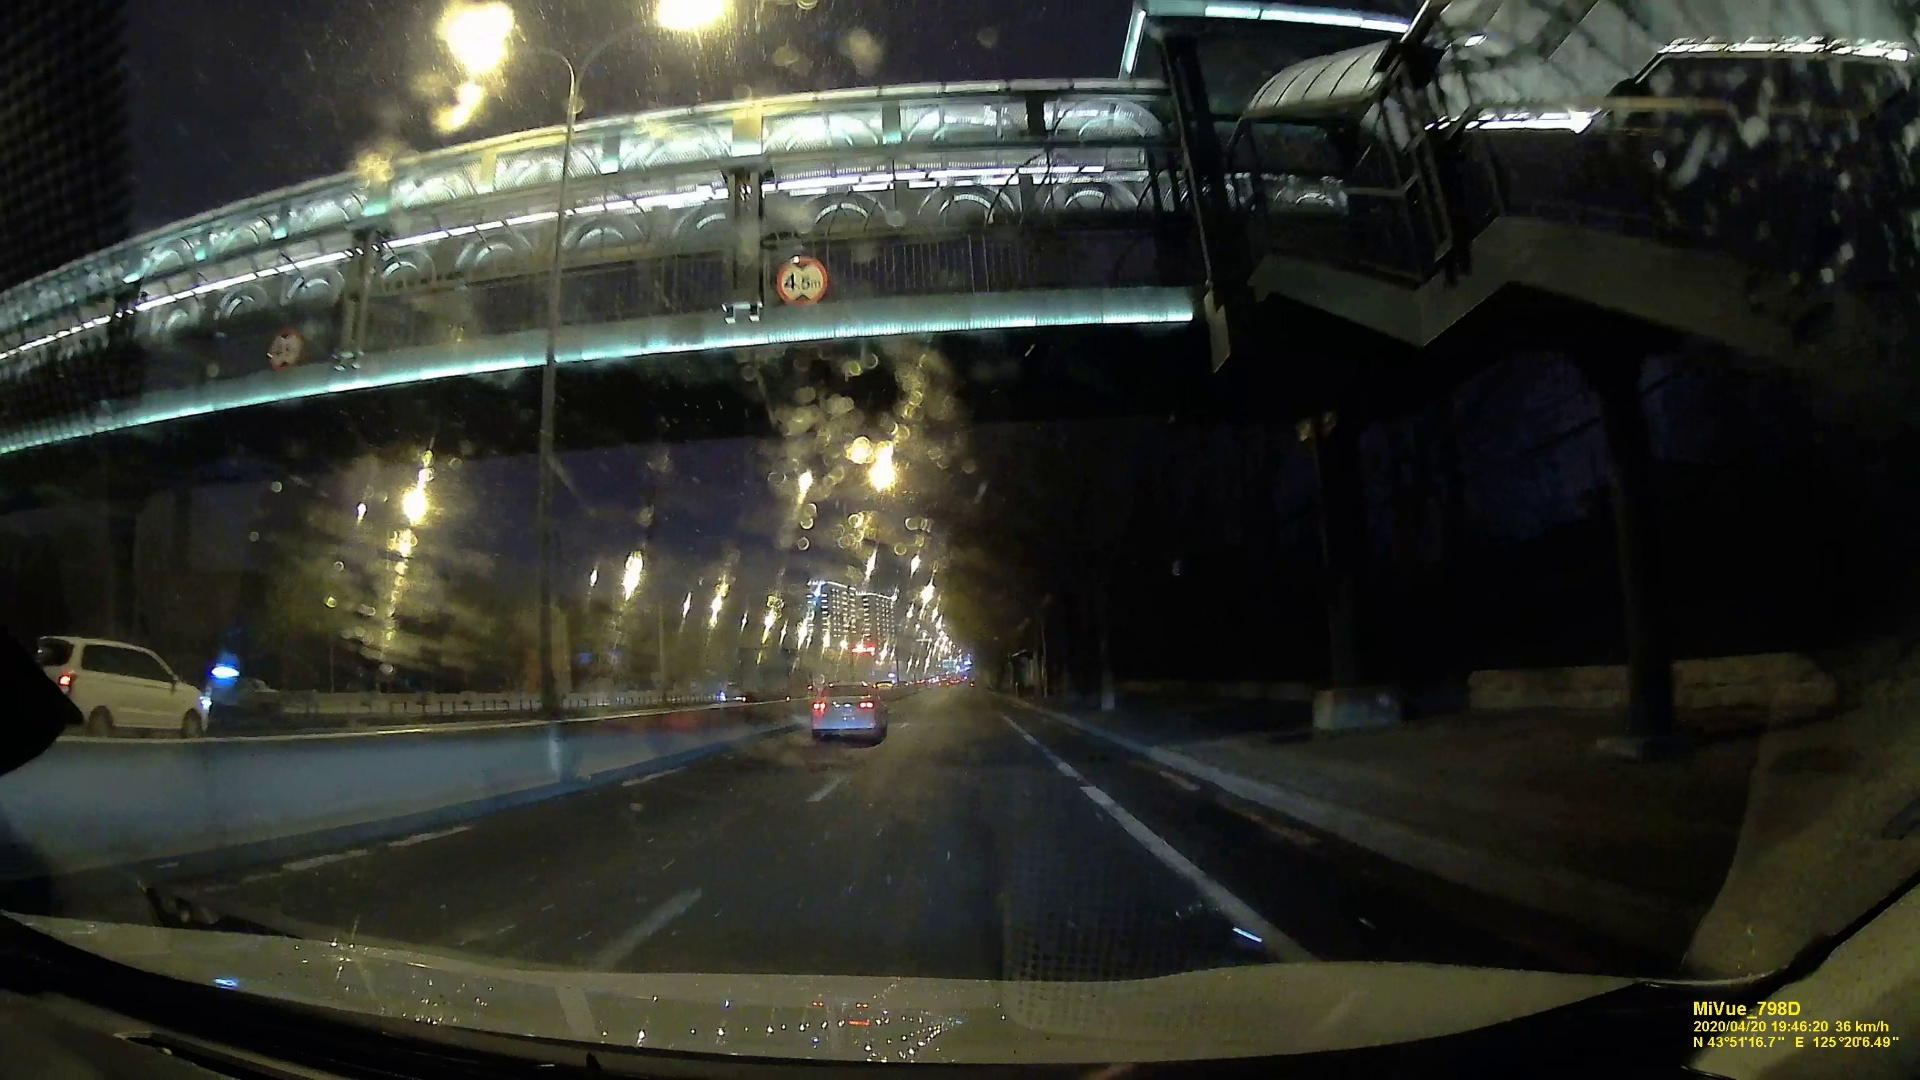traffic_sign: (779, 251, 829, 309)
vehicle: (36, 632, 204, 738), (810, 683, 887, 742)
